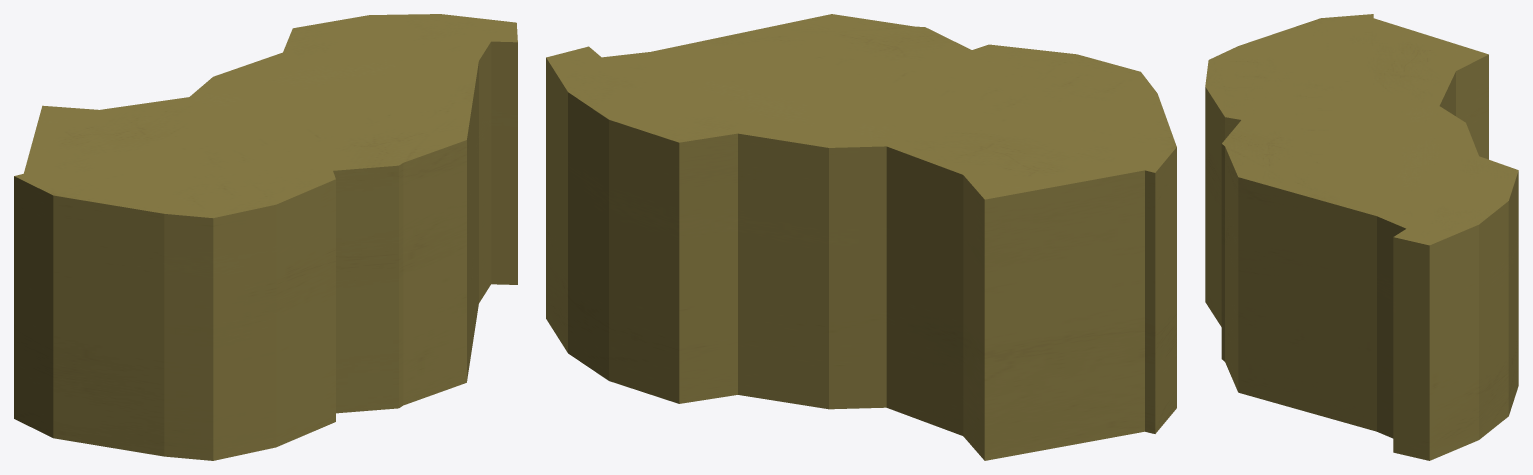
The model's file is hungary.DAE.
3 views of the same model, side by side, from view 1: azimuth 30°, elevation 25°; view 2: azimuth 150°, elevation 25°; view 3: azimuth 270°, elevation 25° (orthographic). The views are drawn at different scales.
Parts seen in each view (by area): view 1: Hungary; view 2: Hungary; view 3: Hungary.
Part boxes in pixels (<box>): Hungary: <box>14,14,517,460</box>; Hungary: <box>546,14,1176,460</box>; Hungary: <box>1205,14,1518,460</box>.
Bounding box in the file's own units: 57.58 × 32.96 × 25.
Materials: 1 (1 with a texture image).
